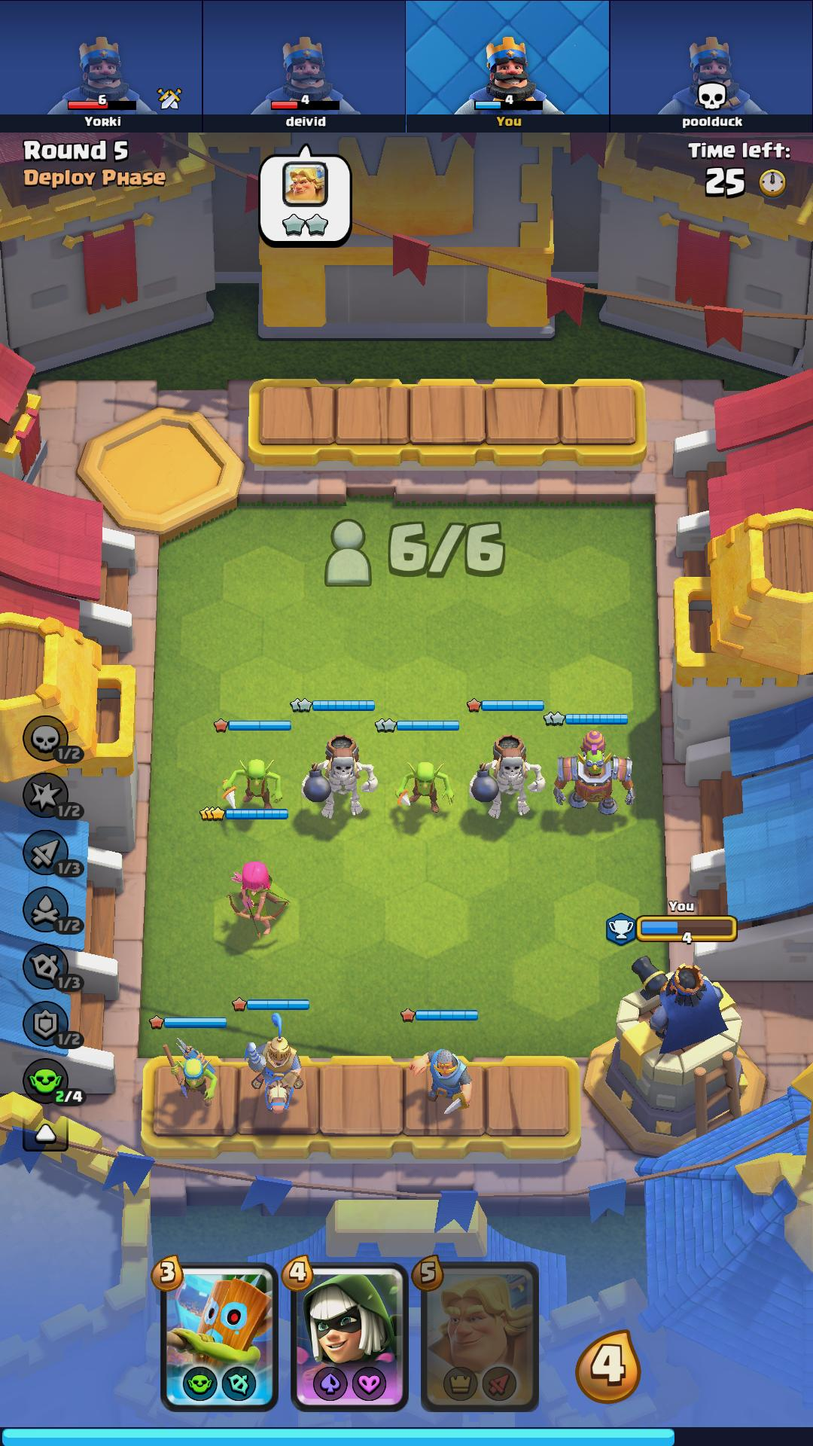archer: (225, 855, 296, 948)
giant: (301, 727, 379, 825), (474, 730, 544, 819)
goblin: (394, 753, 457, 815), (222, 750, 287, 807)
hand-bandit: (291, 1265, 407, 1406)
hand-dart: (165, 1263, 276, 1408)
hand-golden: (424, 1257, 542, 1408)
knight: (414, 1036, 475, 1117)
machine: (553, 727, 638, 821)
prince: (238, 1016, 306, 1116)
spear: (161, 1030, 225, 1116)
